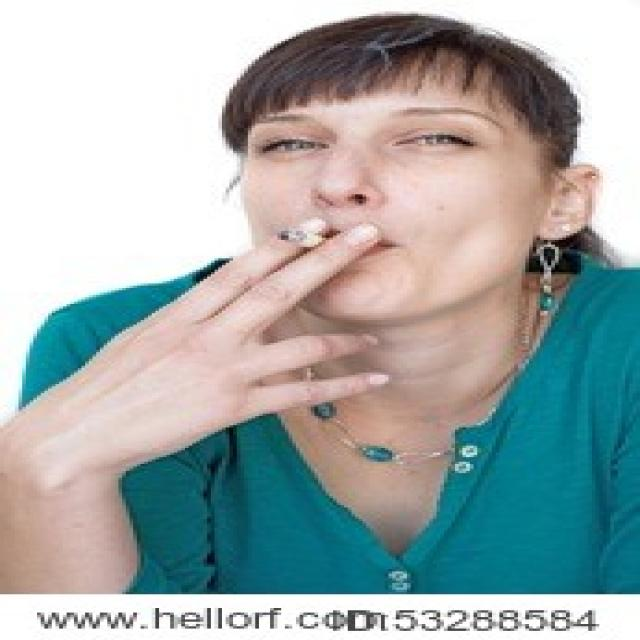smoke: (278, 224, 330, 252)
